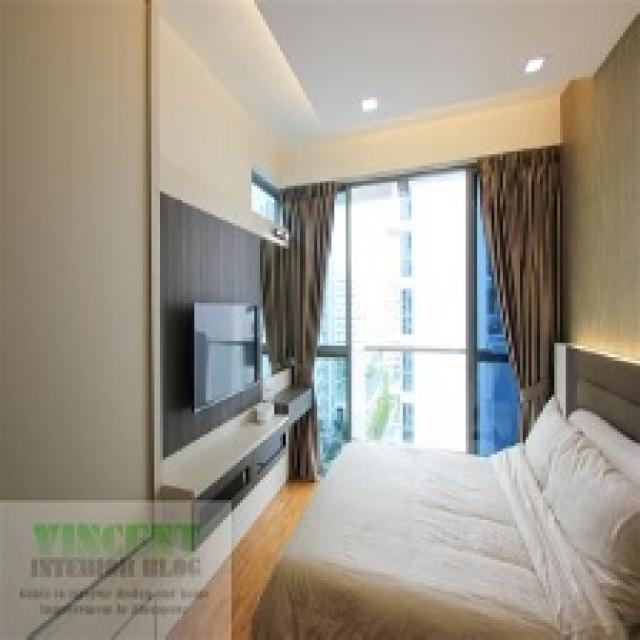Bed: (249, 340, 637, 637)
